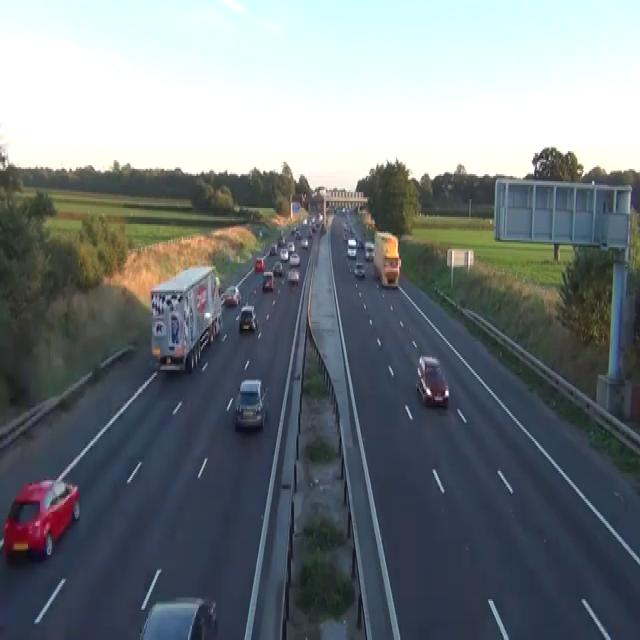Car: (3, 478, 80, 560), (139, 596, 217, 638), (415, 354, 449, 407), (234, 379, 267, 430), (238, 304, 257, 331), (223, 284, 241, 306), (261, 270, 274, 292), (364, 242, 374, 261), (347, 238, 356, 258), (354, 262, 365, 278), (272, 260, 283, 276), (289, 250, 300, 266), (287, 268, 299, 282), (254, 256, 265, 270), (280, 247, 288, 261), (215, 276, 221, 294), (269, 244, 277, 256), (287, 240, 295, 252), (220, 290, 226, 306), (316, 212, 323, 224), (301, 238, 308, 249), (356, 238, 363, 249), (310, 217, 316, 229), (278, 235, 285, 245), (320, 222, 326, 233), (295, 230, 301, 238), (290, 226, 296, 234), (342, 233, 347, 242), (302, 217, 308, 224), (307, 228, 312, 236), (259, 228, 262, 236)
Truck: (150, 263, 222, 372), (373, 229, 401, 288)
